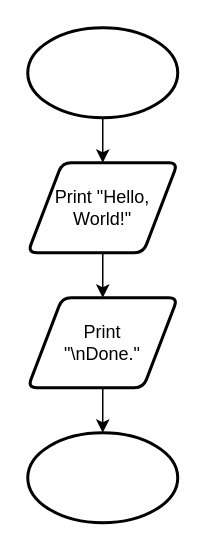
Image size: 204x549. Some labels were removed from this diagram. Here are the shapes that lost their labels. From the top down, the centre of each, then its label:
(102,72): Start
(102,477): Stop
